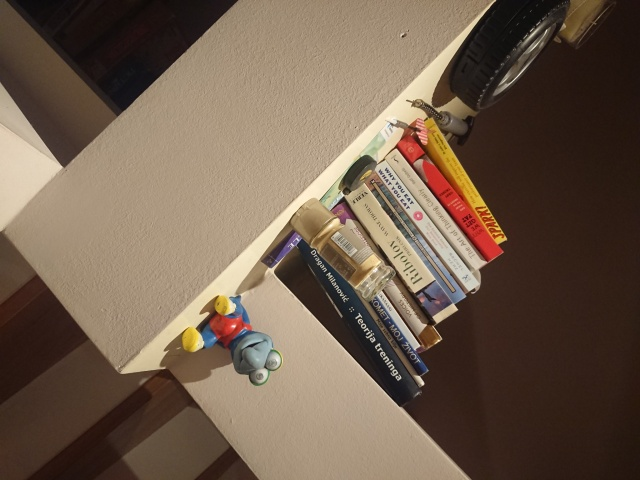Kotanyi Garlic Granules 70g: (288, 196, 398, 303)
